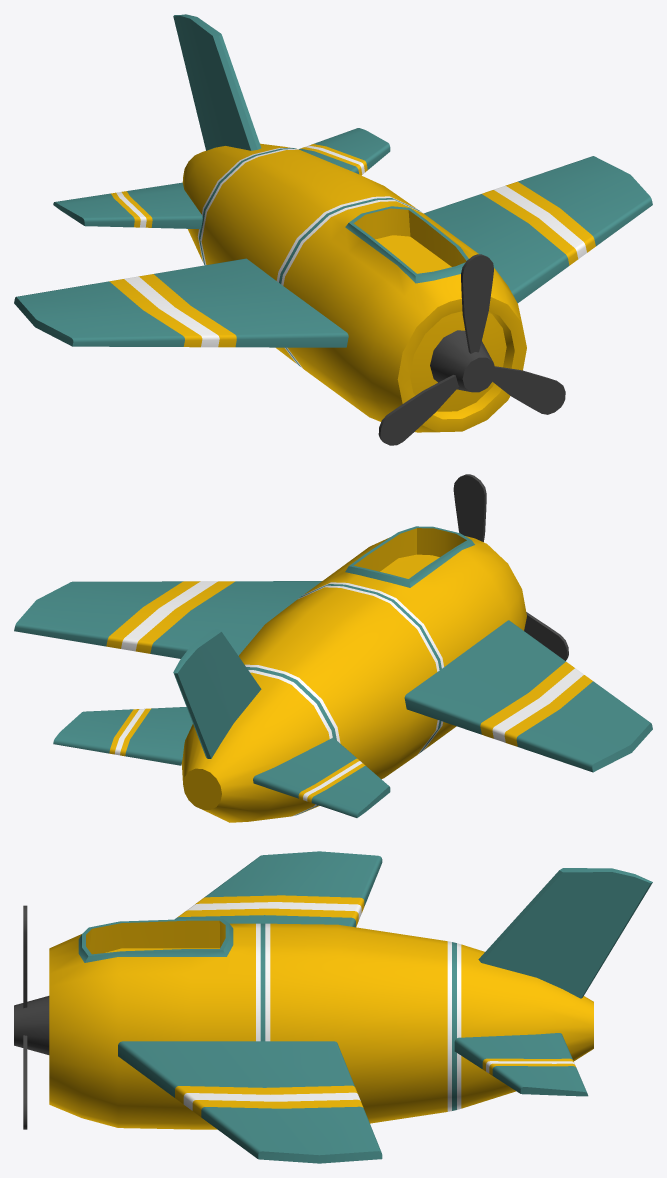
Rendered from Air Plane Z_2.fbx.
3 renders of one model, top to bottom at view 1: azimuth 30°, elevation 25°; view 2: azimuth 150°, elevation 25°; view 3: azimuth 270°, elevation 25°, orthographic. The views are drawn at different scales.
Visible parts, largest first — view 1: Air Plane Z_2, Air Plane Z_2 Fan; view 2: Air Plane Z_2, Air Plane Z_2 Fan; view 3: Air Plane Z_2, Air Plane Z_2 Fan.
Part boxes in pixels (left/top/right/bottom): Air Plane Z_2: left=14, top=14, right=652, bottom=432; Air Plane Z_2 Fan: left=378, top=254, right=565, bottom=445; Air Plane Z_2: left=14, top=526, right=652, bottom=822; Air Plane Z_2 Fan: left=453, top=474, right=568, bottom=660; Air Plane Z_2: left=49, top=851, right=652, bottom=1163; Air Plane Z_2 Fan: left=14, top=905, right=49, bottom=1129.
Size of the model in its own units: 0.6422 by 0.2436 by 0.5681.
